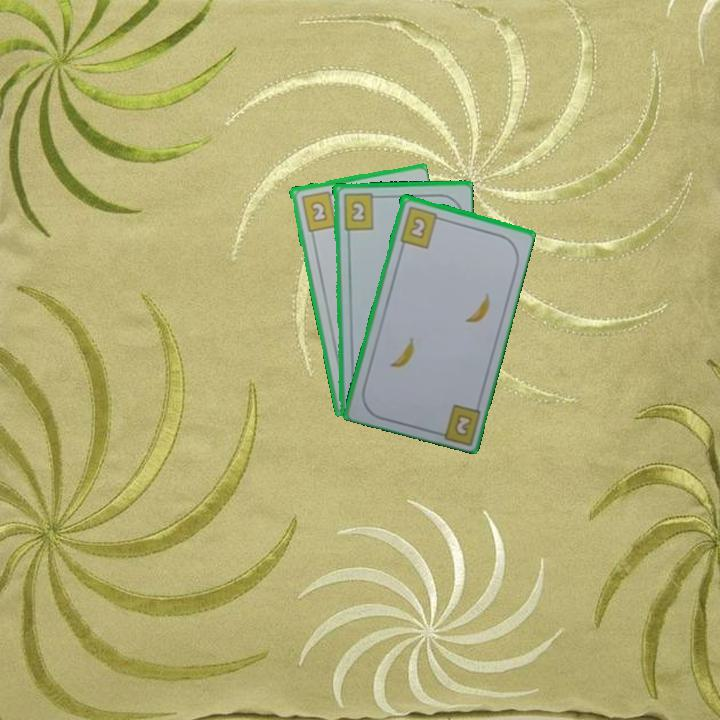2b: (396, 202, 445, 250), (297, 187, 339, 234), (340, 190, 381, 232), (451, 410, 475, 439)
